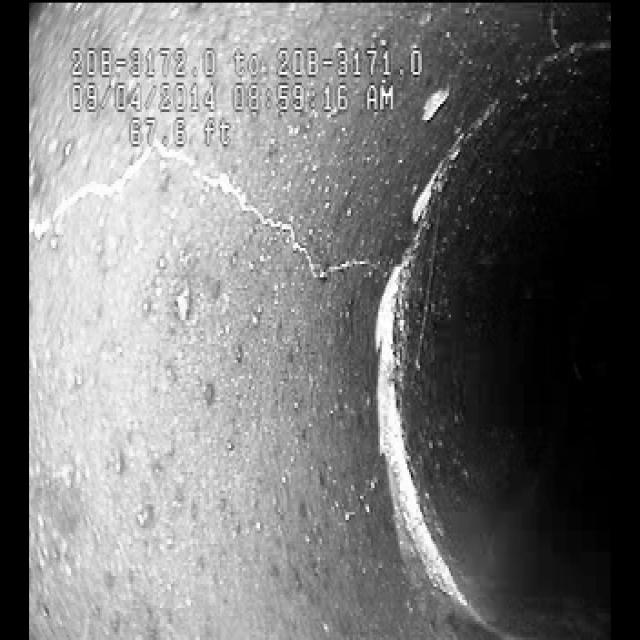Crack: (64, 132, 308, 274)
